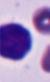D: (0, 22, 32, 60)
